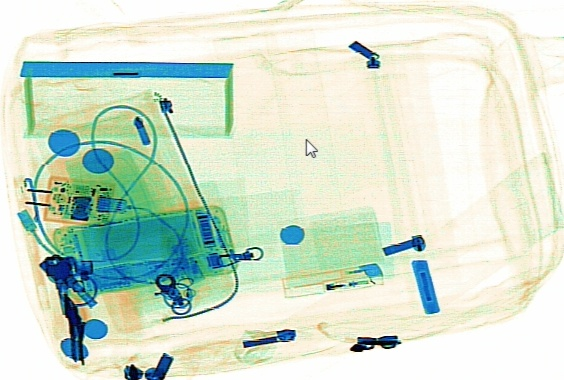lighter: (280, 260, 385, 298)
